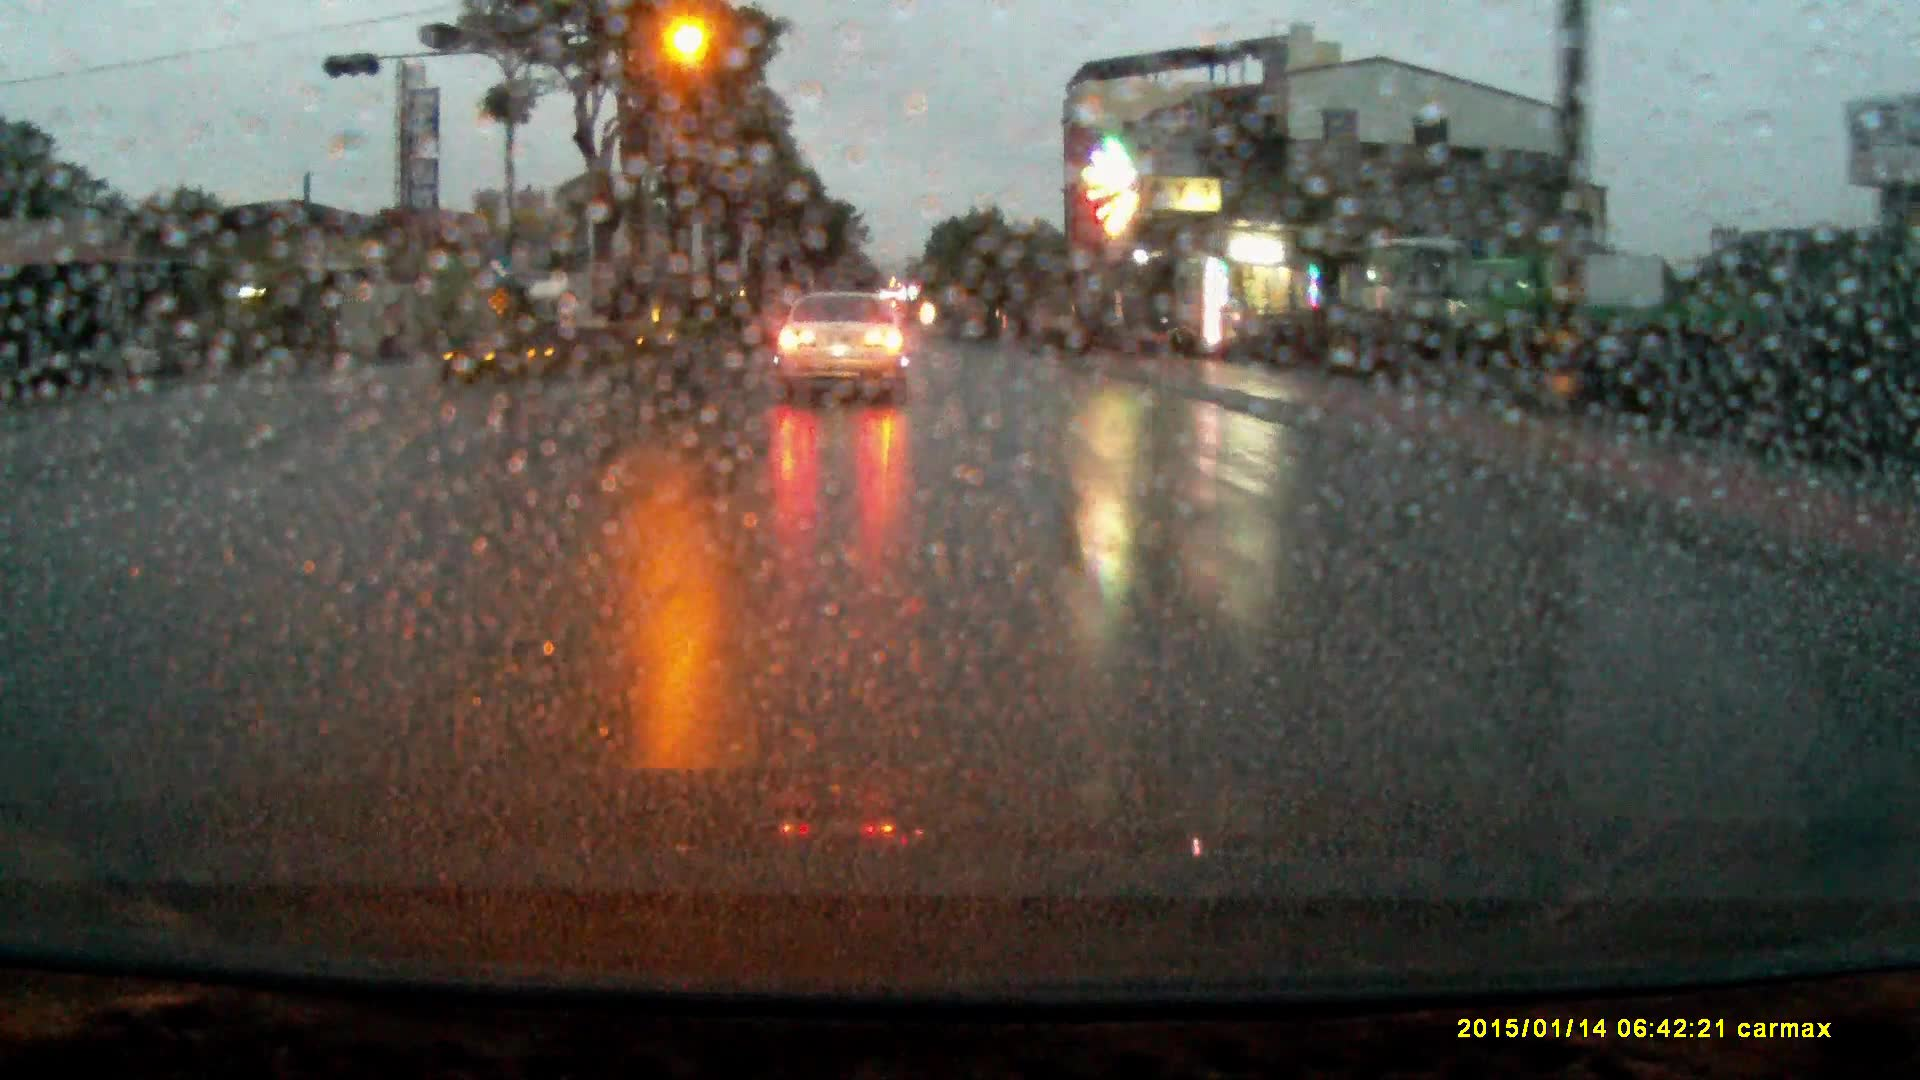vehicle: (1451, 251, 1673, 353), (775, 291, 916, 407), (1360, 231, 1486, 356), (531, 270, 603, 343)
